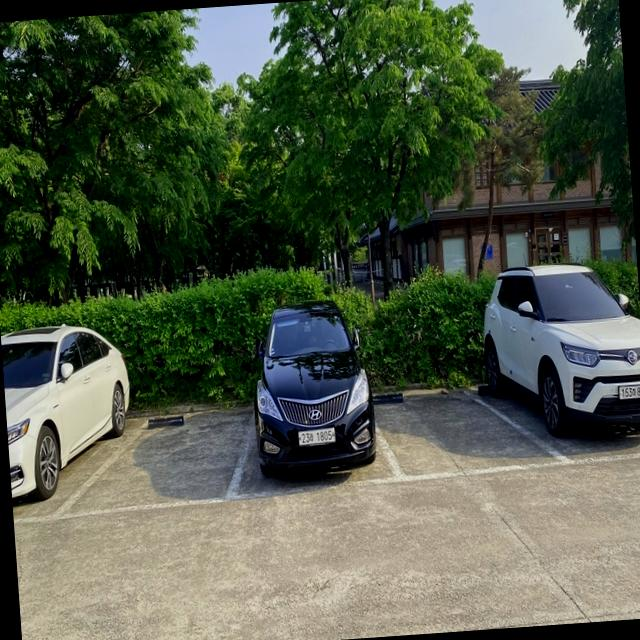car: (477, 255, 640, 438), (251, 298, 380, 477)
free: (40, 416, 256, 522), (370, 388, 579, 485)
